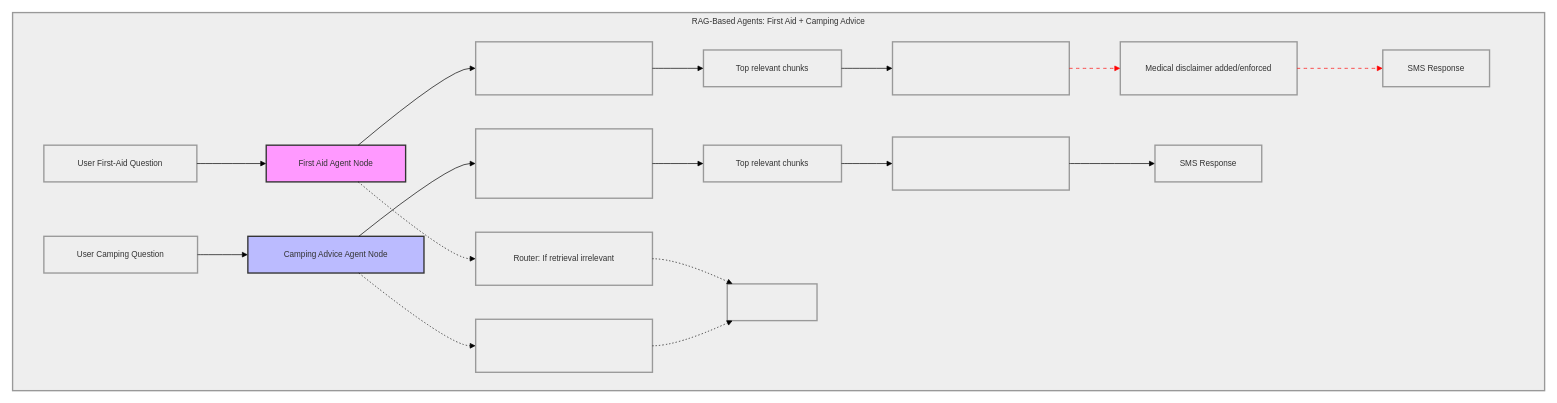
Image size: 1557x403. Some labels were removed from this diagram. Here are the shapes that lost their labels. From the top down, the centre of each, then its label:
At (564,68): "FAISS Retriever: First-aid manual index".
At (980,68): "LLM answers using retrieved context".
At (564,163): "FAISS Retriever: Camping/outdoor manuals index".
At (980,163): "LLM answers from retrieved context".
At (771,302): "WebAgent".
At (564,345): "Router: If no relevant context".
